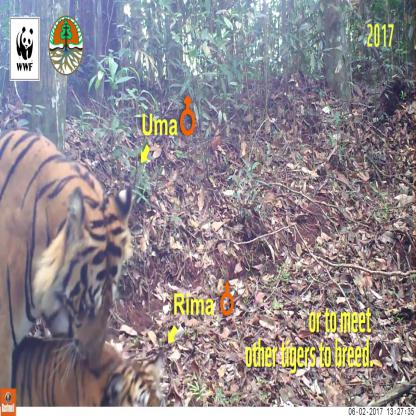Tiger: (0, 121, 137, 332), (19, 341, 167, 399)
